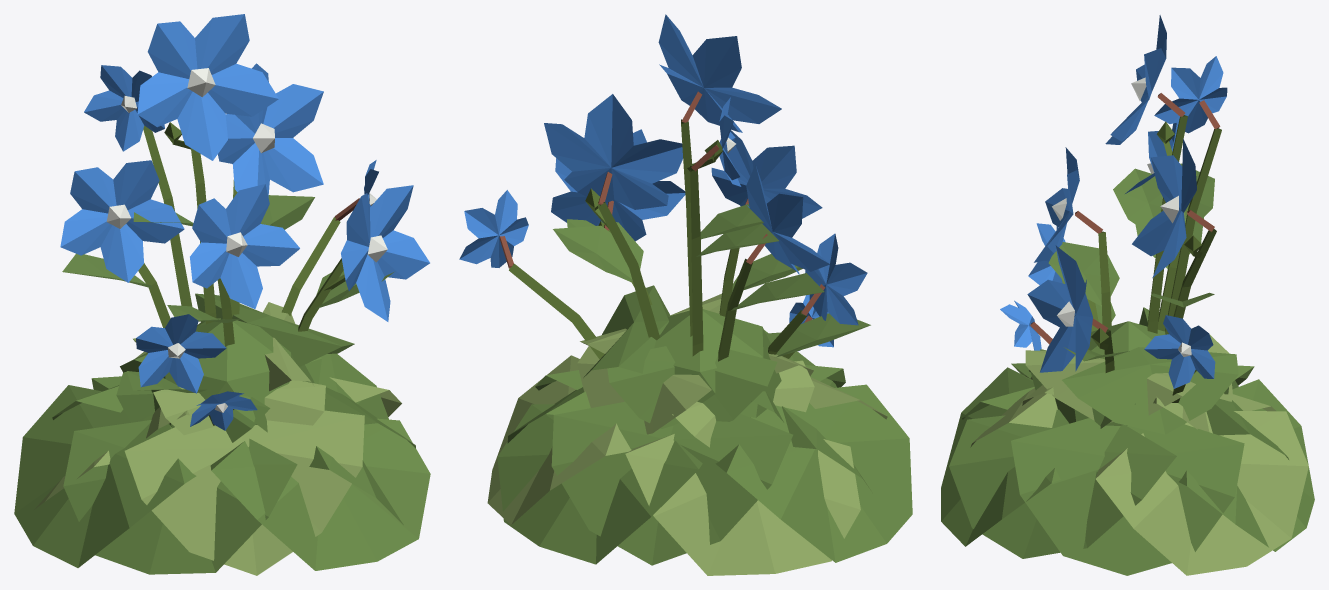
Rendered from borage-charming.glb.
3 views of the same model, side by side, from view 1: azimuth 30°, elevation 25°; view 2: azimuth 150°, elevation 25°; view 3: azimuth 270°, elevation 25° (orthographic). The views are drawn at different scales.
Parts seen in each view (by area): view 1: leaves, petals, leaves_pale, stems, flower_centres; view 2: leaves, petals, leaves_pale, stems, flower_stalks; view 3: leaves, leaves_pale, petals, stems, flower_centres, flower_stalks.
Boxes of the visible parts, x1,y1,x2,y2 form: leaves: (14,195,430,574); petals: (60,14,429,430); leaves_pale: (34,302,401,575); stems: (138,122,345,425); flower_centres: (106,68,387,412); leaves: (497,204,912,565); petals: (459,14,867,351); leaves_pale: (487,292,887,575); stems: (509,119,806,361); flower_stalks: (499,91,825,322); leaves: (941,163,1314,575); leaves_pale: (970,334,1308,575); petals: (1000,15,1227,388); stems: (1087,115,1221,402); flower_centres: (1052,77,1191,356); flower_stalks: (1030,93,1220,344).
Bounding box in the file's own units: 0.3402 × 0.4062 × 0.3002.
